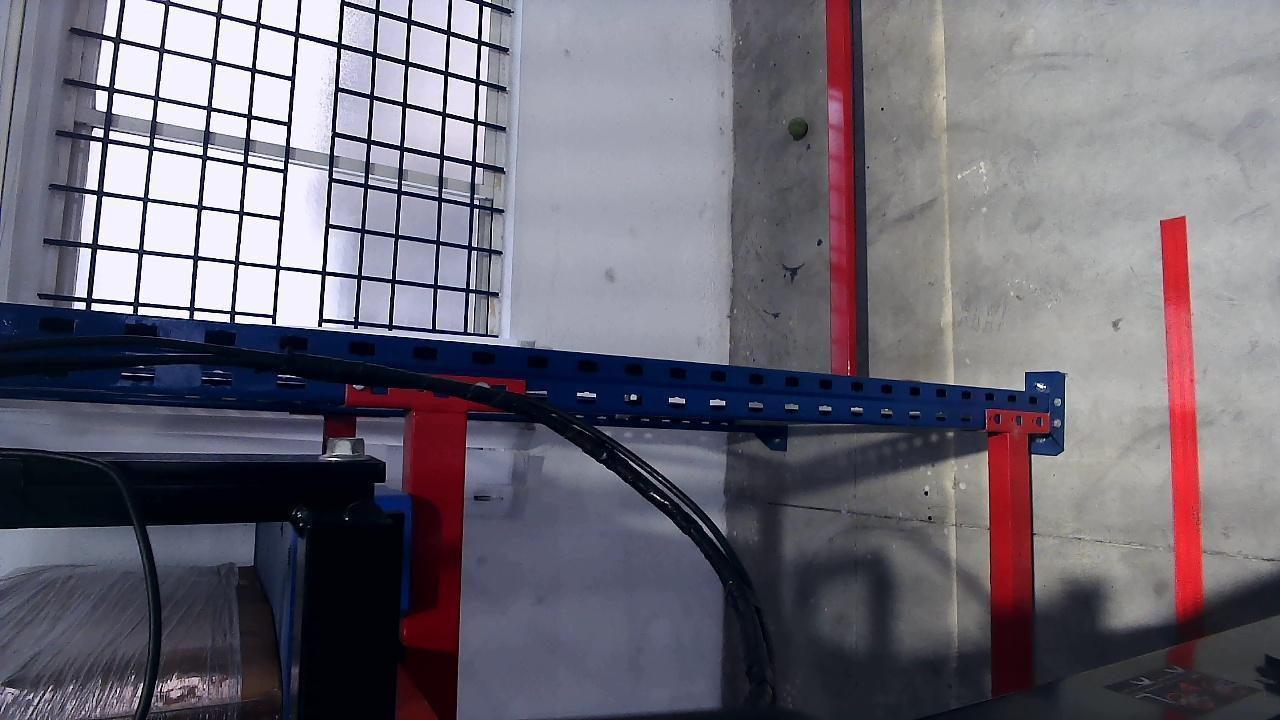red_line: (1160, 215, 1203, 619)
